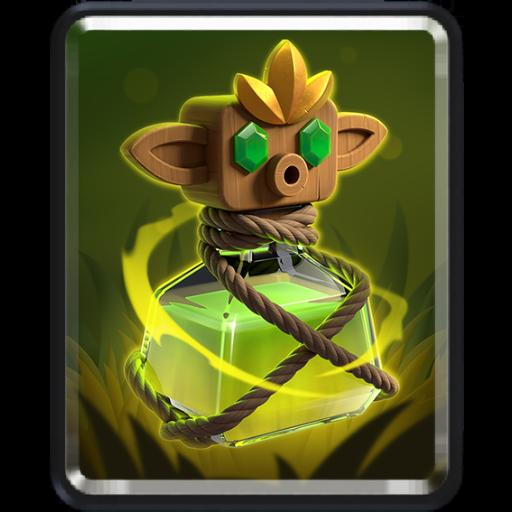goblin-curse: (70, 22, 440, 490)
